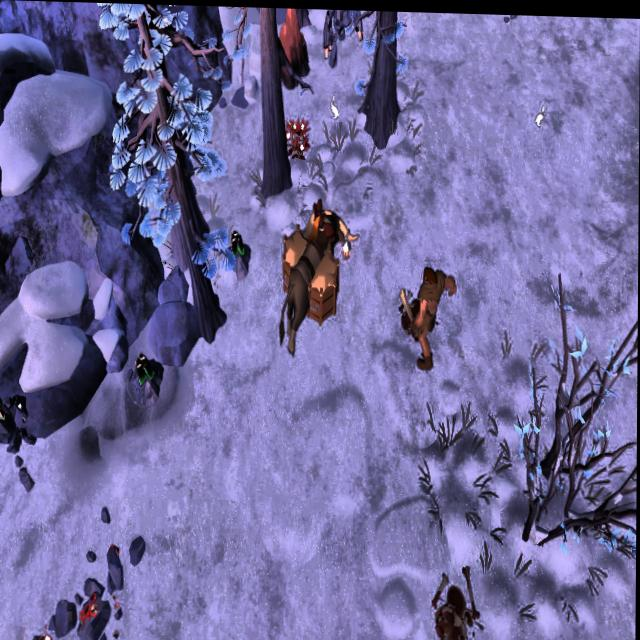enemy_factionKeeper: (401, 266, 455, 369)
fiber_t5: (282, 109, 311, 165)
ore_t3: (134, 348, 156, 386), (229, 224, 246, 257)
rock_t5: (274, 6, 307, 90)
